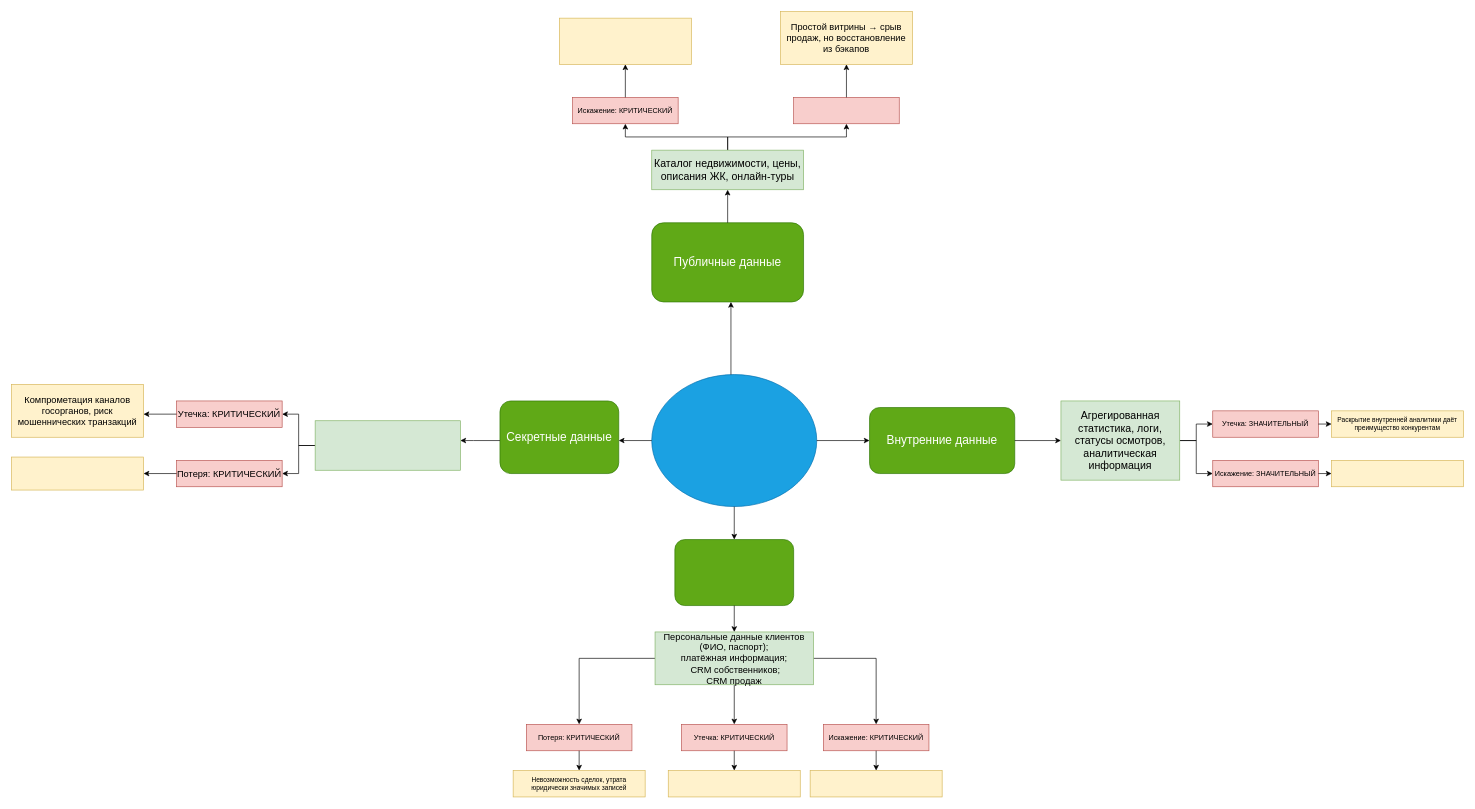
Some shapes in this 1475 by 809 pixel diagram are drawn without their labels. The shapes that lost their labels are listed below. From the top down, each one's centre as x and y in pixels, then its label:
[625,40]: Подмена цен/описаний → репутационный и юридический ущерб
[846,110]: Потеря: ЗНАЧИТЕЛЬНЫЙ
[387,445]: Криптоключи СМЭВ, учётные данные администраторов, сертификаты
[734,440]: Безопасность данных
[77,473]: Остановка онлайн-сделок и приёма платежей
[1397,473]: Ошибки в отчётах → неверные управленческие решения
[734,572]: Конфиденциальные данные
[734,783]: Нарушение 152-ФЗ, штрафы, репутационные потери
[875,783]: Подмена ПДн → доступ к чужому кабинету, жалобы клиентов
